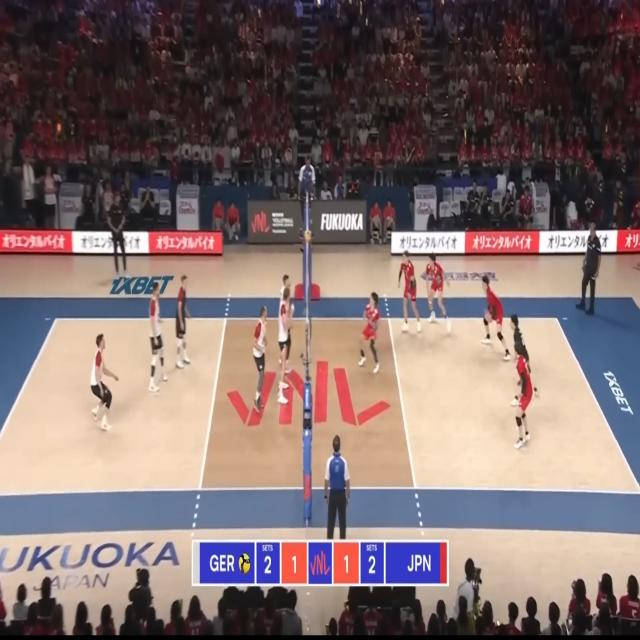ball: (304, 230, 312, 242)
